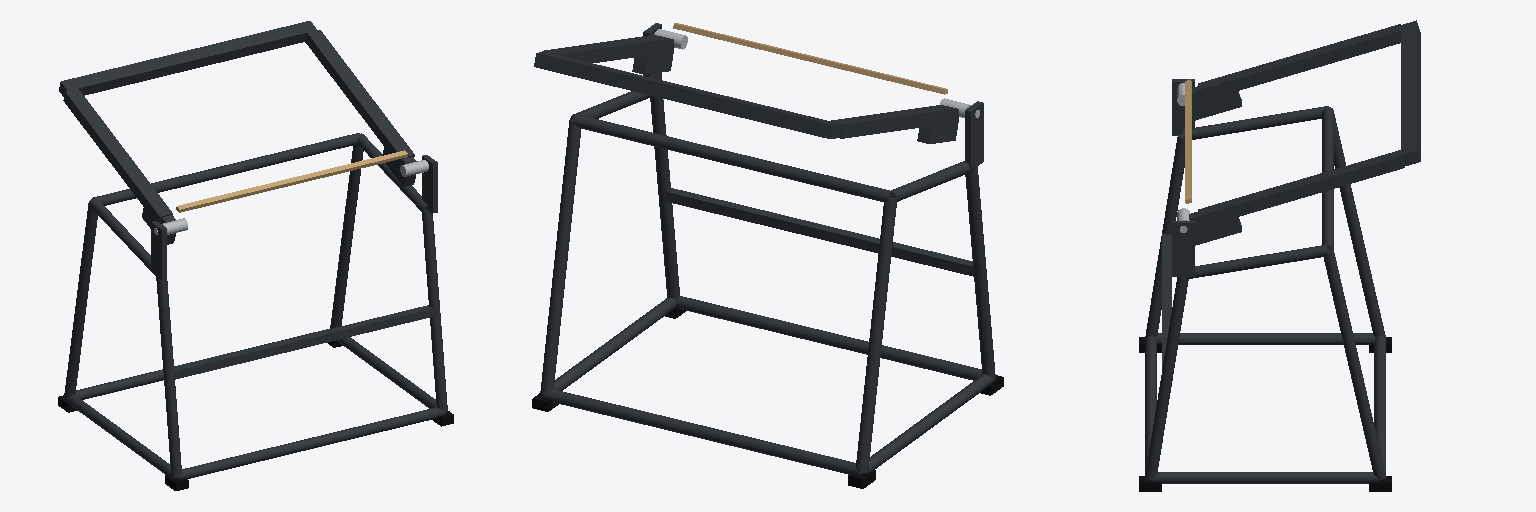
robot.urdf — floor_standing_drafting_table:
<robot name="floor_standing_drafting_table">
  <material name="powder_coat">
    <color rgba="0.24 0.26 0.28 1" />
    </material>
  <material name="brushed_steel">
    <color rgba="0.72 0.74 0.76 1" />
    </material>
  <material name="beech">
    <color rgba="0.79 0.67 0.49 1" />
    </material>
  <material name="dark_rubber">
    <color rgba="0.1 0.1 0.11 1" />
    </material>
  <link name="stand">
    <inertial>
      <origin xyz="0 0.02 0.55" rpy="0 0 0" />
      <mass value="24" />
      <inertia ixx="3.4" ixy="0" ixz="0" iyy="4.04" iyz="0" izz="2.6" />
      </inertial>
    <visual name="left_floor_rail">
      <origin xyz="-0.5 0.03 0.035" rpy="0 1.5708 1.5708" />
      <geometry>
        <cylinder radius="0.018" length="0.7" />
        </geometry>
      <material name="powder_coat">
        <color rgba="0.24 0.26 0.28 1" />
        </material>
      </visual>
    <visual name="right_floor_rail">
      <origin xyz="0.5 0.03 0.035" rpy="0 1.5708 1.5708" />
      <geometry>
        <cylinder radius="0.018" length="0.7" />
        </geometry>
      <material name="powder_coat">
        <color rgba="0.24 0.26 0.28 1" />
        </material>
      </visual>
    <visual name="front_floor_stretcher">
      <origin xyz="0 -0.32 0.035" rpy="0 1.5708 0" />
      <geometry>
        <cylinder radius="0.018" length="1" />
        </geometry>
      <material name="powder_coat">
        <color rgba="0.24 0.26 0.28 1" />
        </material>
      </visual>
    <visual name="rear_floor_stretcher">
      <origin xyz="0 0.38 0.035" rpy="0 1.5708 0" />
      <geometry>
        <cylinder radius="0.018" length="1" />
        </geometry>
      <material name="powder_coat">
        <color rgba="0.24 0.26 0.28 1" />
        </material>
      </visual>
    <visual name="left_front_post">
      <origin xyz="-0.5 -0.27 0.3775" rpy="0 0.144961 1.5708" />
      <geometry>
        <cylinder radius="0.018" length="0.692261" />
        </geometry>
      <material name="powder_coat">
        <color rgba="0.24 0.26 0.28 1" />
        </material>
      </visual>
    <visual name="right_front_post">
      <origin xyz="0.5 -0.27 0.3775" rpy="0 0.144961 1.5708" />
      <geometry>
        <cylinder radius="0.018" length="0.692261" />
        </geometry>
      <material name="powder_coat">
        <color rgba="0.24 0.26 0.28 1" />
        </material>
      </visual>
    <visual name="left_rear_post">
      <origin xyz="-0.5 0.3 0.4175" rpy="0 0.206178 -1.5708" />
      <geometry>
        <cylinder radius="0.018" length="0.781553" />
        </geometry>
      <material name="powder_coat">
        <color rgba="0.24 0.26 0.28 1" />
        </material>
      </visual>
    <visual name="right_rear_post">
      <origin xyz="0.5 0.3 0.4175" rpy="0 0.206178 -1.5708" />
      <geometry>
        <cylinder radius="0.018" length="0.781553" />
        </geometry>
      <material name="powder_coat">
        <color rgba="0.24 0.26 0.28 1" />
        </material>
      </visual>
    <visual name="left_top_rail">
      <origin xyz="-0.5 0 0.76" rpy="0 1.39094 1.5708" />
      <geometry>
        <cylinder radius="0.018" length="0.447214" />
        </geometry>
      <material name="powder_coat">
        <color rgba="0.24 0.26 0.28 1" />
        </material>
      </visual>
    <visual name="right_top_rail">
      <origin xyz="0.5 0 0.76" rpy="0 1.39094 1.5708" />
      <geometry>
        <cylinder radius="0.018" length="0.447214" />
        </geometry>
      <material name="powder_coat">
        <color rgba="0.24 0.26 0.28 1" />
        </material>
      </visual>
    <visual name="rear_head_rail">
      <origin xyz="0 0.22 0.8" rpy="0 1.5708 0" />
      <geometry>
        <cylinder radius="0.018" length="1" />
        </geometry>
      <material name="powder_coat">
        <color rgba="0.24 0.26 0.28 1" />
        </material>
      </visual>
    <visual name="left_pivot_pin">
      <origin xyz="-0.482 -0.22 0.88" rpy="0 1.5708 0" />
      <geometry>
        <cylinder radius="0.012" length="0.08" />
        </geometry>
      <material name="brushed_steel">
        <color rgba="0.72 0.74 0.76 1" />
        </material>
      </visual>
    <visual name="right_pivot_pin">
      <origin xyz="0.482 -0.22 0.88" rpy="0 1.5708 0" />
      <geometry>
        <cylinder radius="0.012" length="0.08" />
        </geometry>
      <material name="brushed_steel">
        <color rgba="0.72 0.74 0.76 1" />
        </material>
      </visual>
    <visual name="left_hinge_support">
      <origin xyz="-0.51 -0.22 0.81" rpy="0 0 0" />
      <geometry>
        <box size="0.02 0.07 0.18" />
        </geometry>
      <material name="powder_coat">
        <color rgba="0.24 0.26 0.28 1" />
        </material>
      </visual>
    <visual name="right_hinge_support">
      <origin xyz="0.51 -0.22 0.81" rpy="0 0 0" />
      <geometry>
        <box size="0.02 0.07 0.18" />
        </geometry>
      <material name="powder_coat">
        <color rgba="0.24 0.26 0.28 1" />
        </material>
      </visual>
    <visual name="front_mid_stretcher">
      <origin xyz="0 -0.27 0.38" rpy="0 0 0" />
      <geometry>
        <box size="1.02 0.03 0.03" />
        </geometry>
      <material name="powder_coat">
        <color rgba="0.24 0.26 0.28 1" />
        </material>
      </visual>
    <visual name="left_front_glide">
      <origin xyz="-0.5 -0.32 0.015" rpy="0 0 0" />
      <geometry>
        <box size="0.05 0.07 0.03" />
        </geometry>
      <material name="dark_rubber">
        <color rgba="0.1 0.1 0.11 1" />
        </material>
      </visual>
    <visual name="left_rear_glide">
      <origin xyz="-0.5 0.38 0.015" rpy="0 0 0" />
      <geometry>
        <box size="0.05 0.07 0.03" />
        </geometry>
      <material name="dark_rubber">
        <color rgba="0.1 0.1 0.11 1" />
        </material>
      </visual>
    <visual name="right_front_glide">
      <origin xyz="0.5 -0.32 0.015" rpy="0 0 0" />
      <geometry>
        <box size="0.05 0.07 0.03" />
        </geometry>
      <material name="dark_rubber">
        <color rgba="0.1 0.1 0.11 1" />
        </material>
      </visual>
    <visual name="right_rear_glide">
      <origin xyz="0.5 0.38 0.015" rpy="0 0 0" />
      <geometry>
        <box size="0.05 0.07 0.03" />
        </geometry>
      <material name="dark_rubber">
        <color rgba="0.1 0.1 0.11 1" />
        </material>
      </visual>
    </link>
  <link name="tabletop">
    <inertial>
      <origin xyz="0 0.4 0.02" rpy="0 0 0" />
      <mass value="16" />
      <inertia ixx="0.866667" ixy="0" ixz="0" iyy="1.62667" iyz="0" izz="2.46667" />
      </inertial>
    <visual name="work_surface">
      <origin xyz="0 0.39 0.024" rpy="0 0 0" />
      <geometry>
        <mesh filename="assets/meshes/drafting_table_top_surface.obj" />
        </geometry>
      <material name="beech">
        <color rgba="0.79 0.67 0.49 1" />
        </material>
      </visual>
    <visual name="rear_subframe">
      <origin xyz="0 0.725 -0.01" rpy="0 0 0" />
      <geometry>
        <box size="0.94 0.05 0.04" />
        </geometry>
      <material name="powder_coat">
        <color rgba="0.24 0.26 0.28 1" />
        </material>
      </visual>
    <visual name="left_subframe">
      <origin xyz="-0.455 0.375 -0.01" rpy="0 0 0" />
      <geometry>
        <box size="0.05 0.65 0.04" />
        </geometry>
      <material name="powder_coat">
        <color rgba="0.24 0.26 0.28 1" />
        </material>
      </visual>
    <visual name="right_subframe">
      <origin xyz="0.455 0.375 -0.01" rpy="0 0 0" />
      <geometry>
        <box size="0.05 0.65 0.04" />
        </geometry>
      <material name="powder_coat">
        <color rgba="0.24 0.26 0.28 1" />
        </material>
      </visual>
    <visual name="left_hinge_barrel">
      <origin xyz="-0.452 0 0" rpy="0 1.5708 0" />
      <geometry>
        <cylinder radius="0.02" length="0.084" />
        </geometry>
      <material name="brushed_steel">
        <color rgba="0.72 0.74 0.76 1" />
        </material>
      </visual>
    <visual name="right_hinge_barrel">
      <origin xyz="0.452 0 0" rpy="0 1.5708 0" />
      <geometry>
        <cylinder radius="0.02" length="0.084" />
        </geometry>
      <material name="brushed_steel">
        <color rgba="0.72 0.74 0.76 1" />
        </material>
      </visual>
    <visual name="left_hinge_bracket">
      <origin xyz="-0.452 0.085 -0.04" rpy="0 0 0" />
      <geometry>
        <box size="0.04 0.15 0.09" />
        </geometry>
      <material name="powder_coat">
        <color rgba="0.24 0.26 0.28 1" />
        </material>
      </visual>
    <visual name="right_hinge_bracket">
      <origin xyz="0.452 0.085 -0.04" rpy="0 0 0" />
      <geometry>
        <box size="0.04 0.15 0.09" />
        </geometry>
      <material name="powder_coat">
        <color rgba="0.24 0.26 0.28 1" />
        </material>
      </visual>
    <visual name="paper_stop">
      <origin xyz="0 0.03 0.045" rpy="0 0 0" />
      <geometry>
        <box size="0.86 0.02 0.014" />
        </geometry>
      <material name="beech">
        <color rgba="0.79 0.67 0.49 1" />
        </material>
      </visual>
    </link>
  <joint name="stand_to_tabletop" type="revolute">
    <origin xyz="0 -0.22 0.88" rpy="0.314159 0 0" />
    <parent link="stand" />
    <child link="tabletop" />
    <axis xyz="1 0 0" />
    <limit effort="45" velocity="1.5" lower="-0.174533" upper="0.698132" />
    </joint>
  </robot>

--- Render facts (derived) ---
Views: 3 orthographic renders of the robot side by side, from view 1: azimuth 30°, elevation 25°; view 2: azimuth 150°, elevation 25°; view 3: azimuth 270°, elevation 25°.
Robot: floor_standing_drafting_table — 2 links, 1 joints (1 revolute); root link stand; default pose: all joints at 0.
Visible links, largest first — view 1: stand, tabletop; view 2: stand, tabletop; view 3: stand, tabletop.
Boxes of the visible links, box(x1,y1,x2,y2) form: stand: box(58, 133, 453, 490); tabletop: box(59, 21, 428, 244); stand: box(532, 23, 1003, 488); tabletop: box(534, 23, 971, 143); stand: box(1139, 79, 1391, 491); tabletop: box(1177, 20, 1420, 245).
Size in the robot's own frame: 1.05 by 0.8576 by 1.12 metres.
0 mesh visuals loaded from 1 distinct referenced files (none loaded); not drawn: 1 (reference not matched to a file when rendering).
